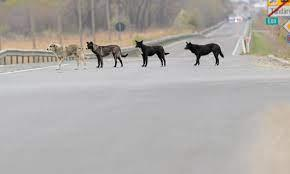normal_dogs: (182, 36, 229, 68), (46, 41, 88, 74), (132, 39, 170, 72), (87, 39, 126, 71)
